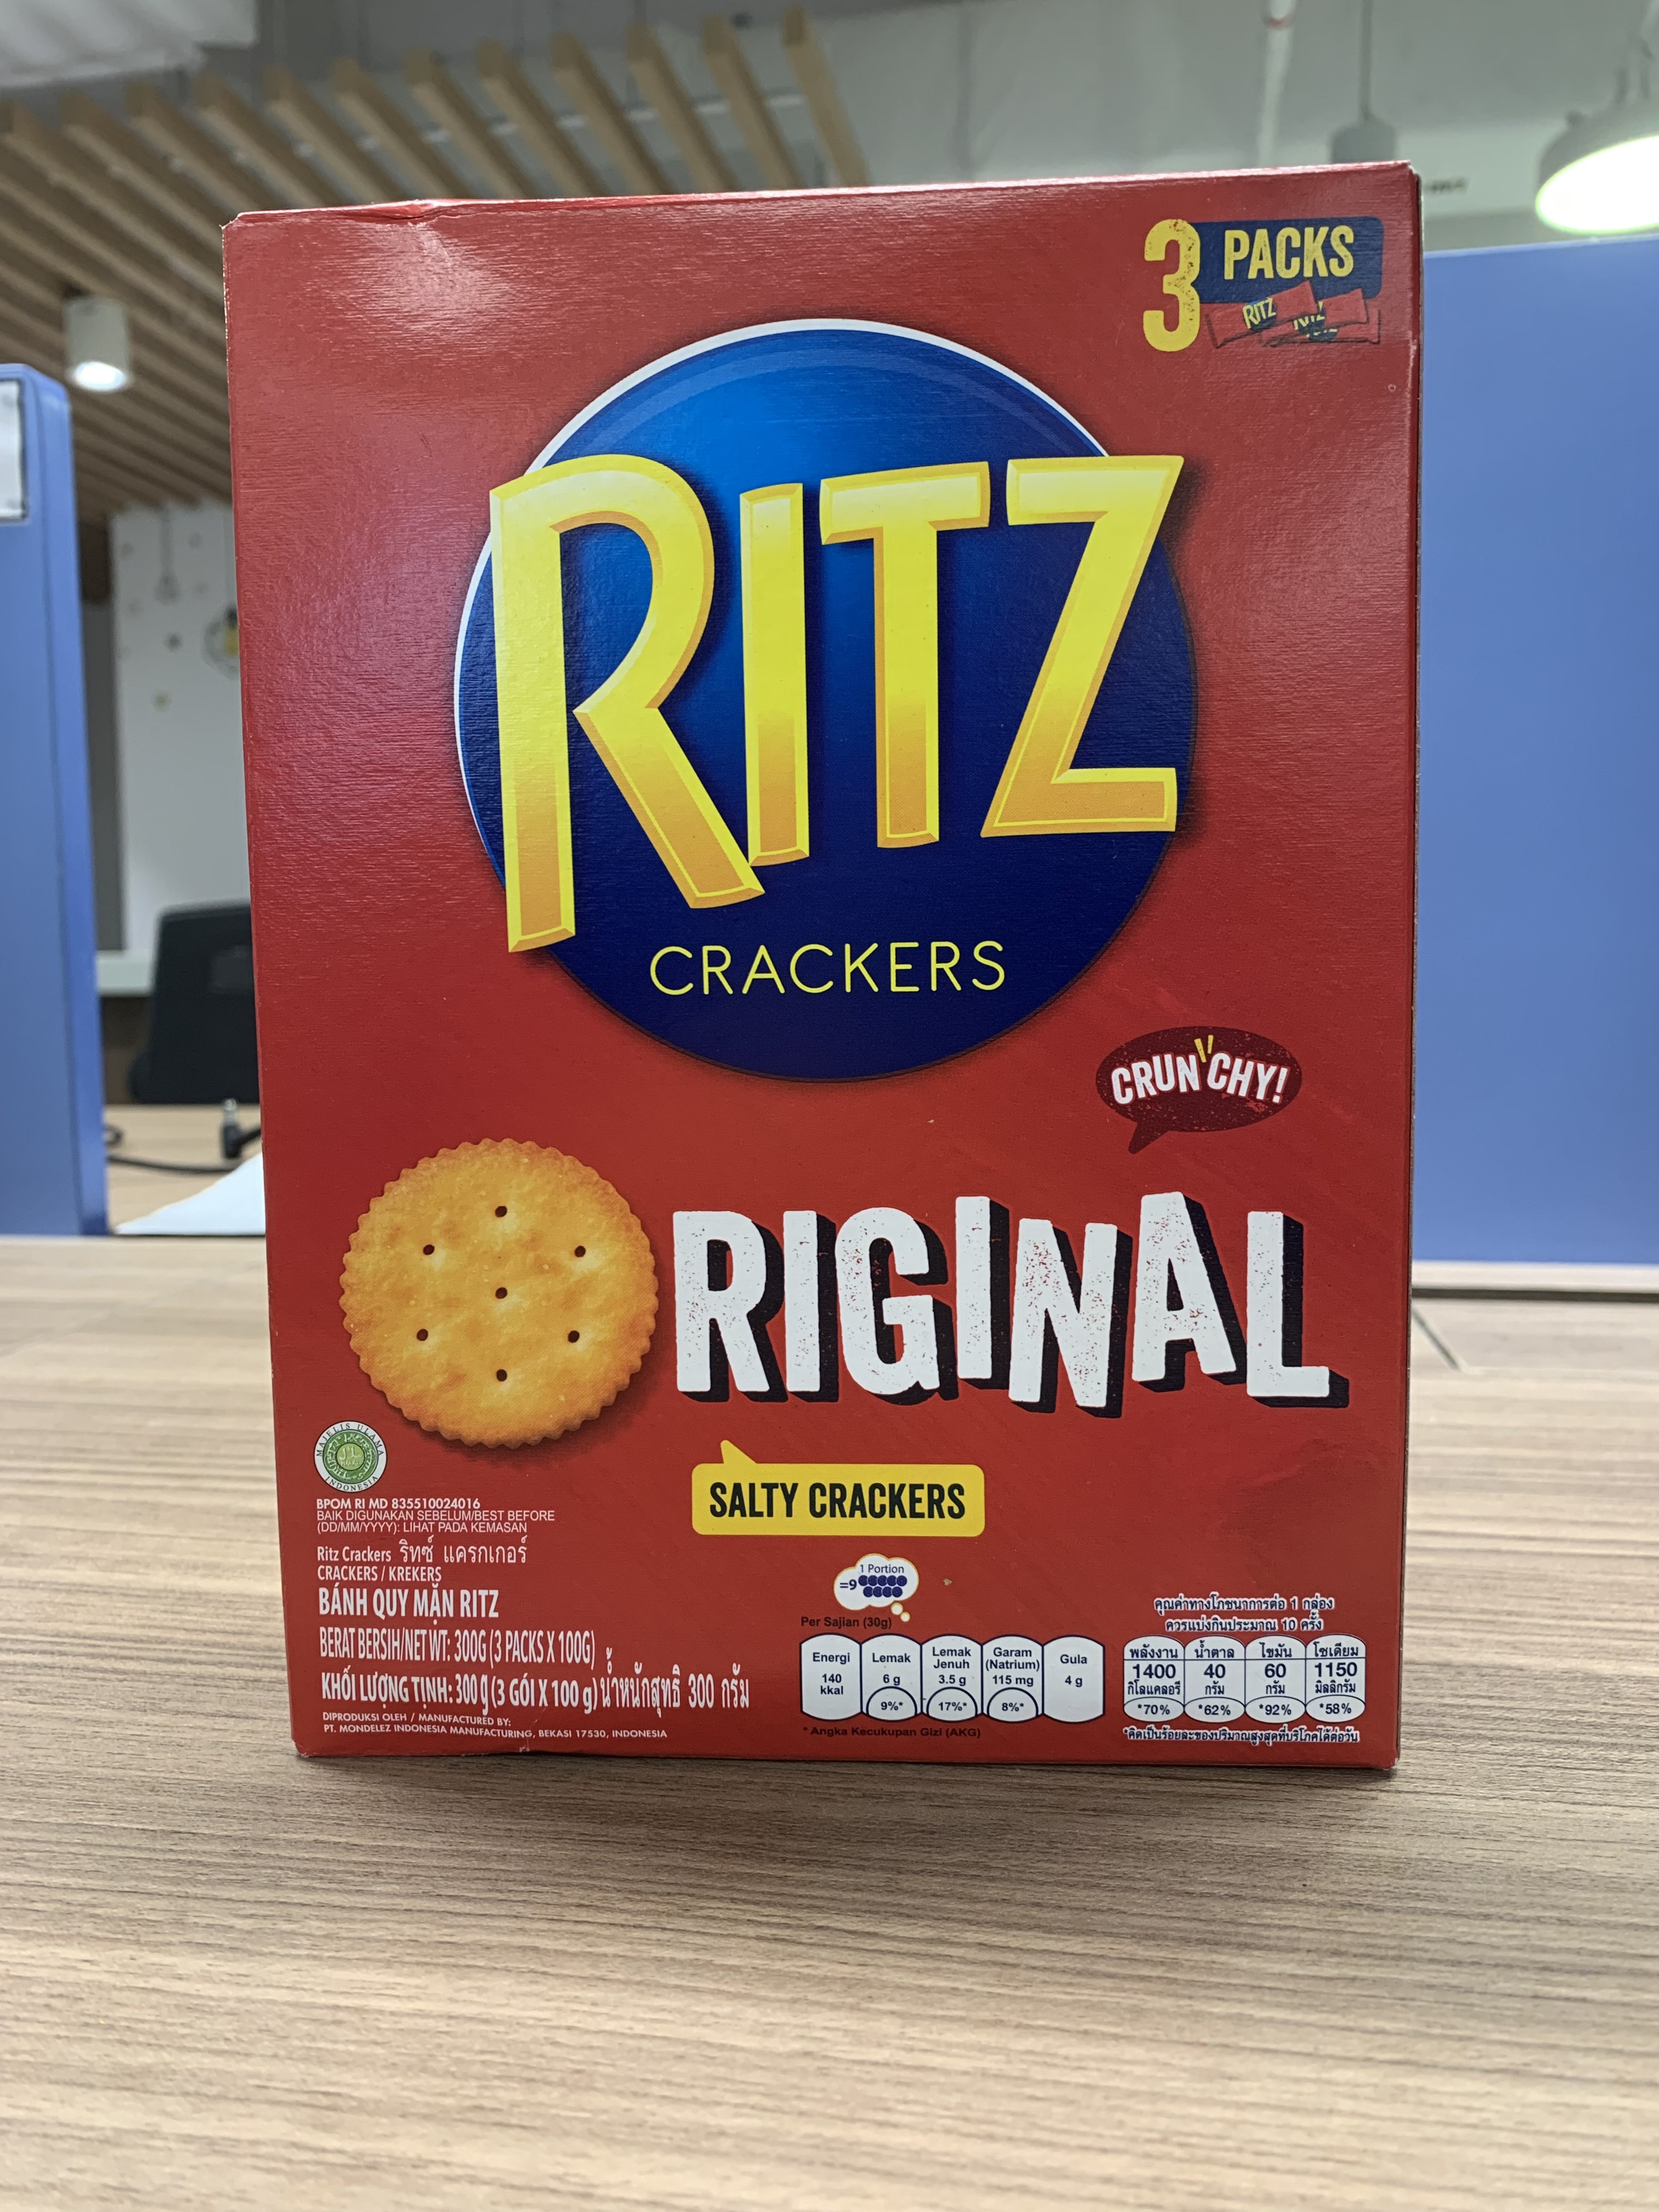halal: (319, 1425, 382, 1489)
